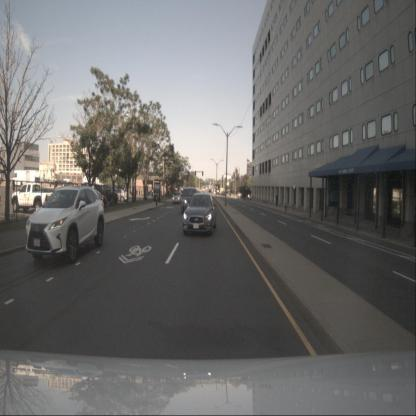human-pedestrian-adult: (276, 194, 278, 207)
vehicle-car: (26, 185, 105, 265), (182, 192, 217, 235), (93, 184, 118, 204), (181, 187, 198, 214), (81, 189, 107, 206), (112, 186, 127, 202), (109, 189, 127, 202), (172, 192, 182, 204), (148, 189, 160, 197)
vehicle-truck: (12, 183, 53, 212)
